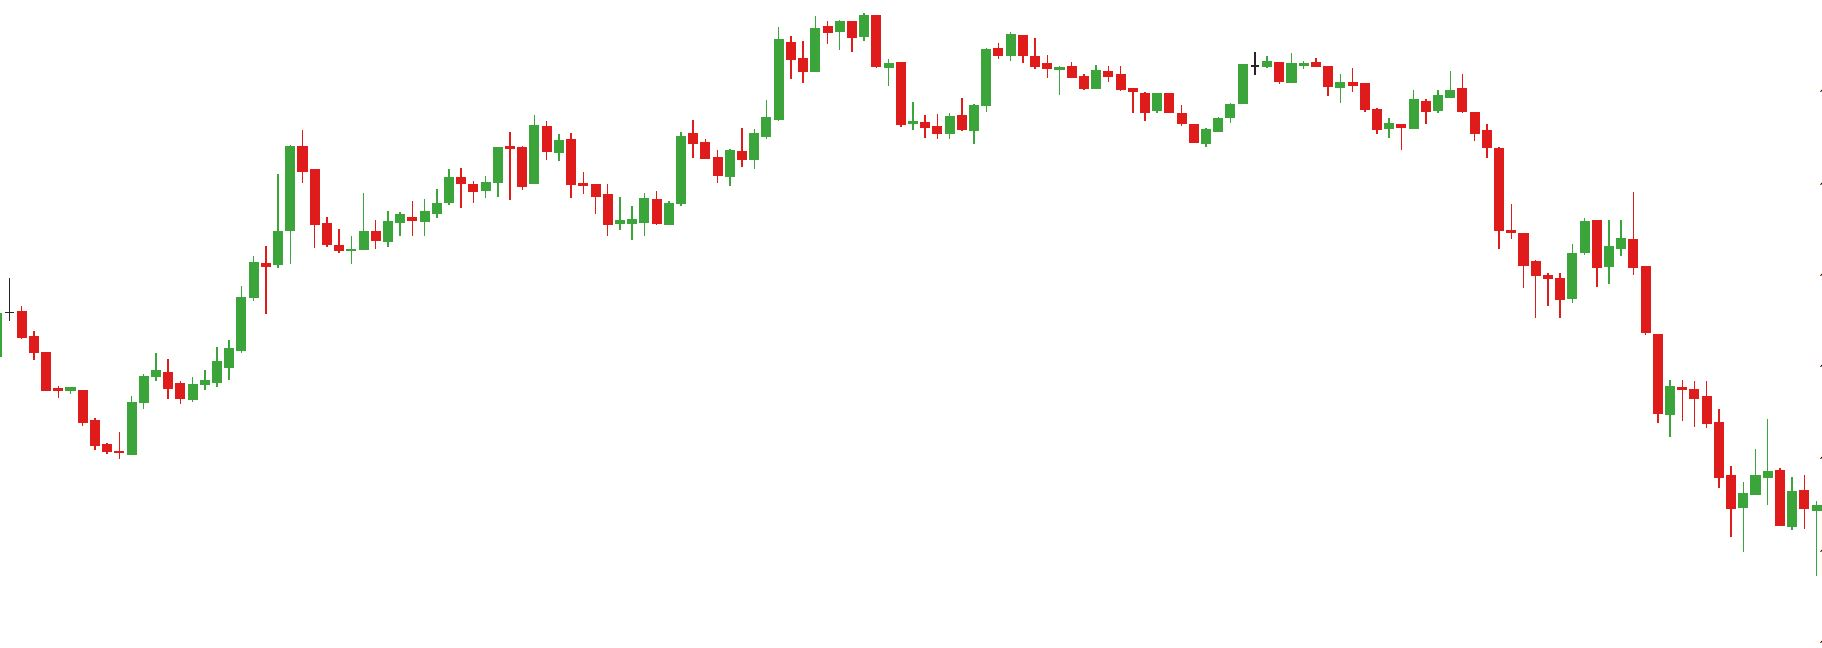sell: (1506, 192, 1642, 301)
